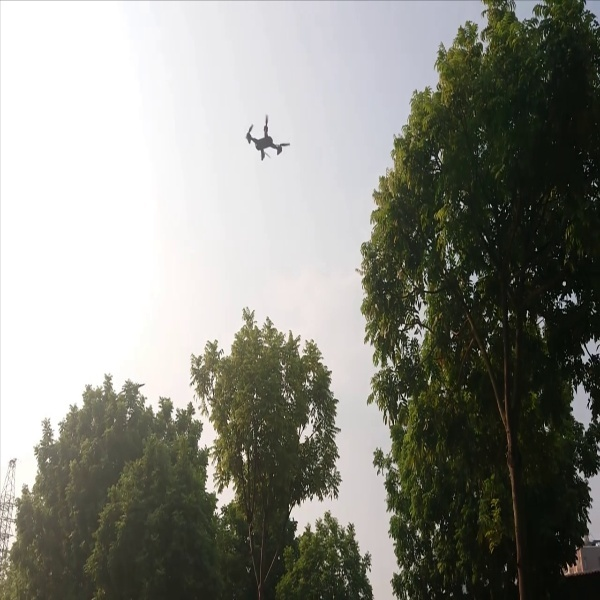drone: (244, 111, 292, 172)
